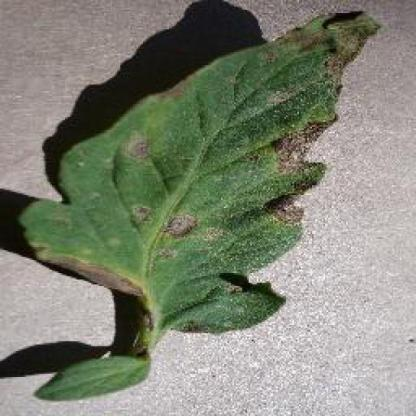Tomato_Blight: (19, 10, 379, 336)
